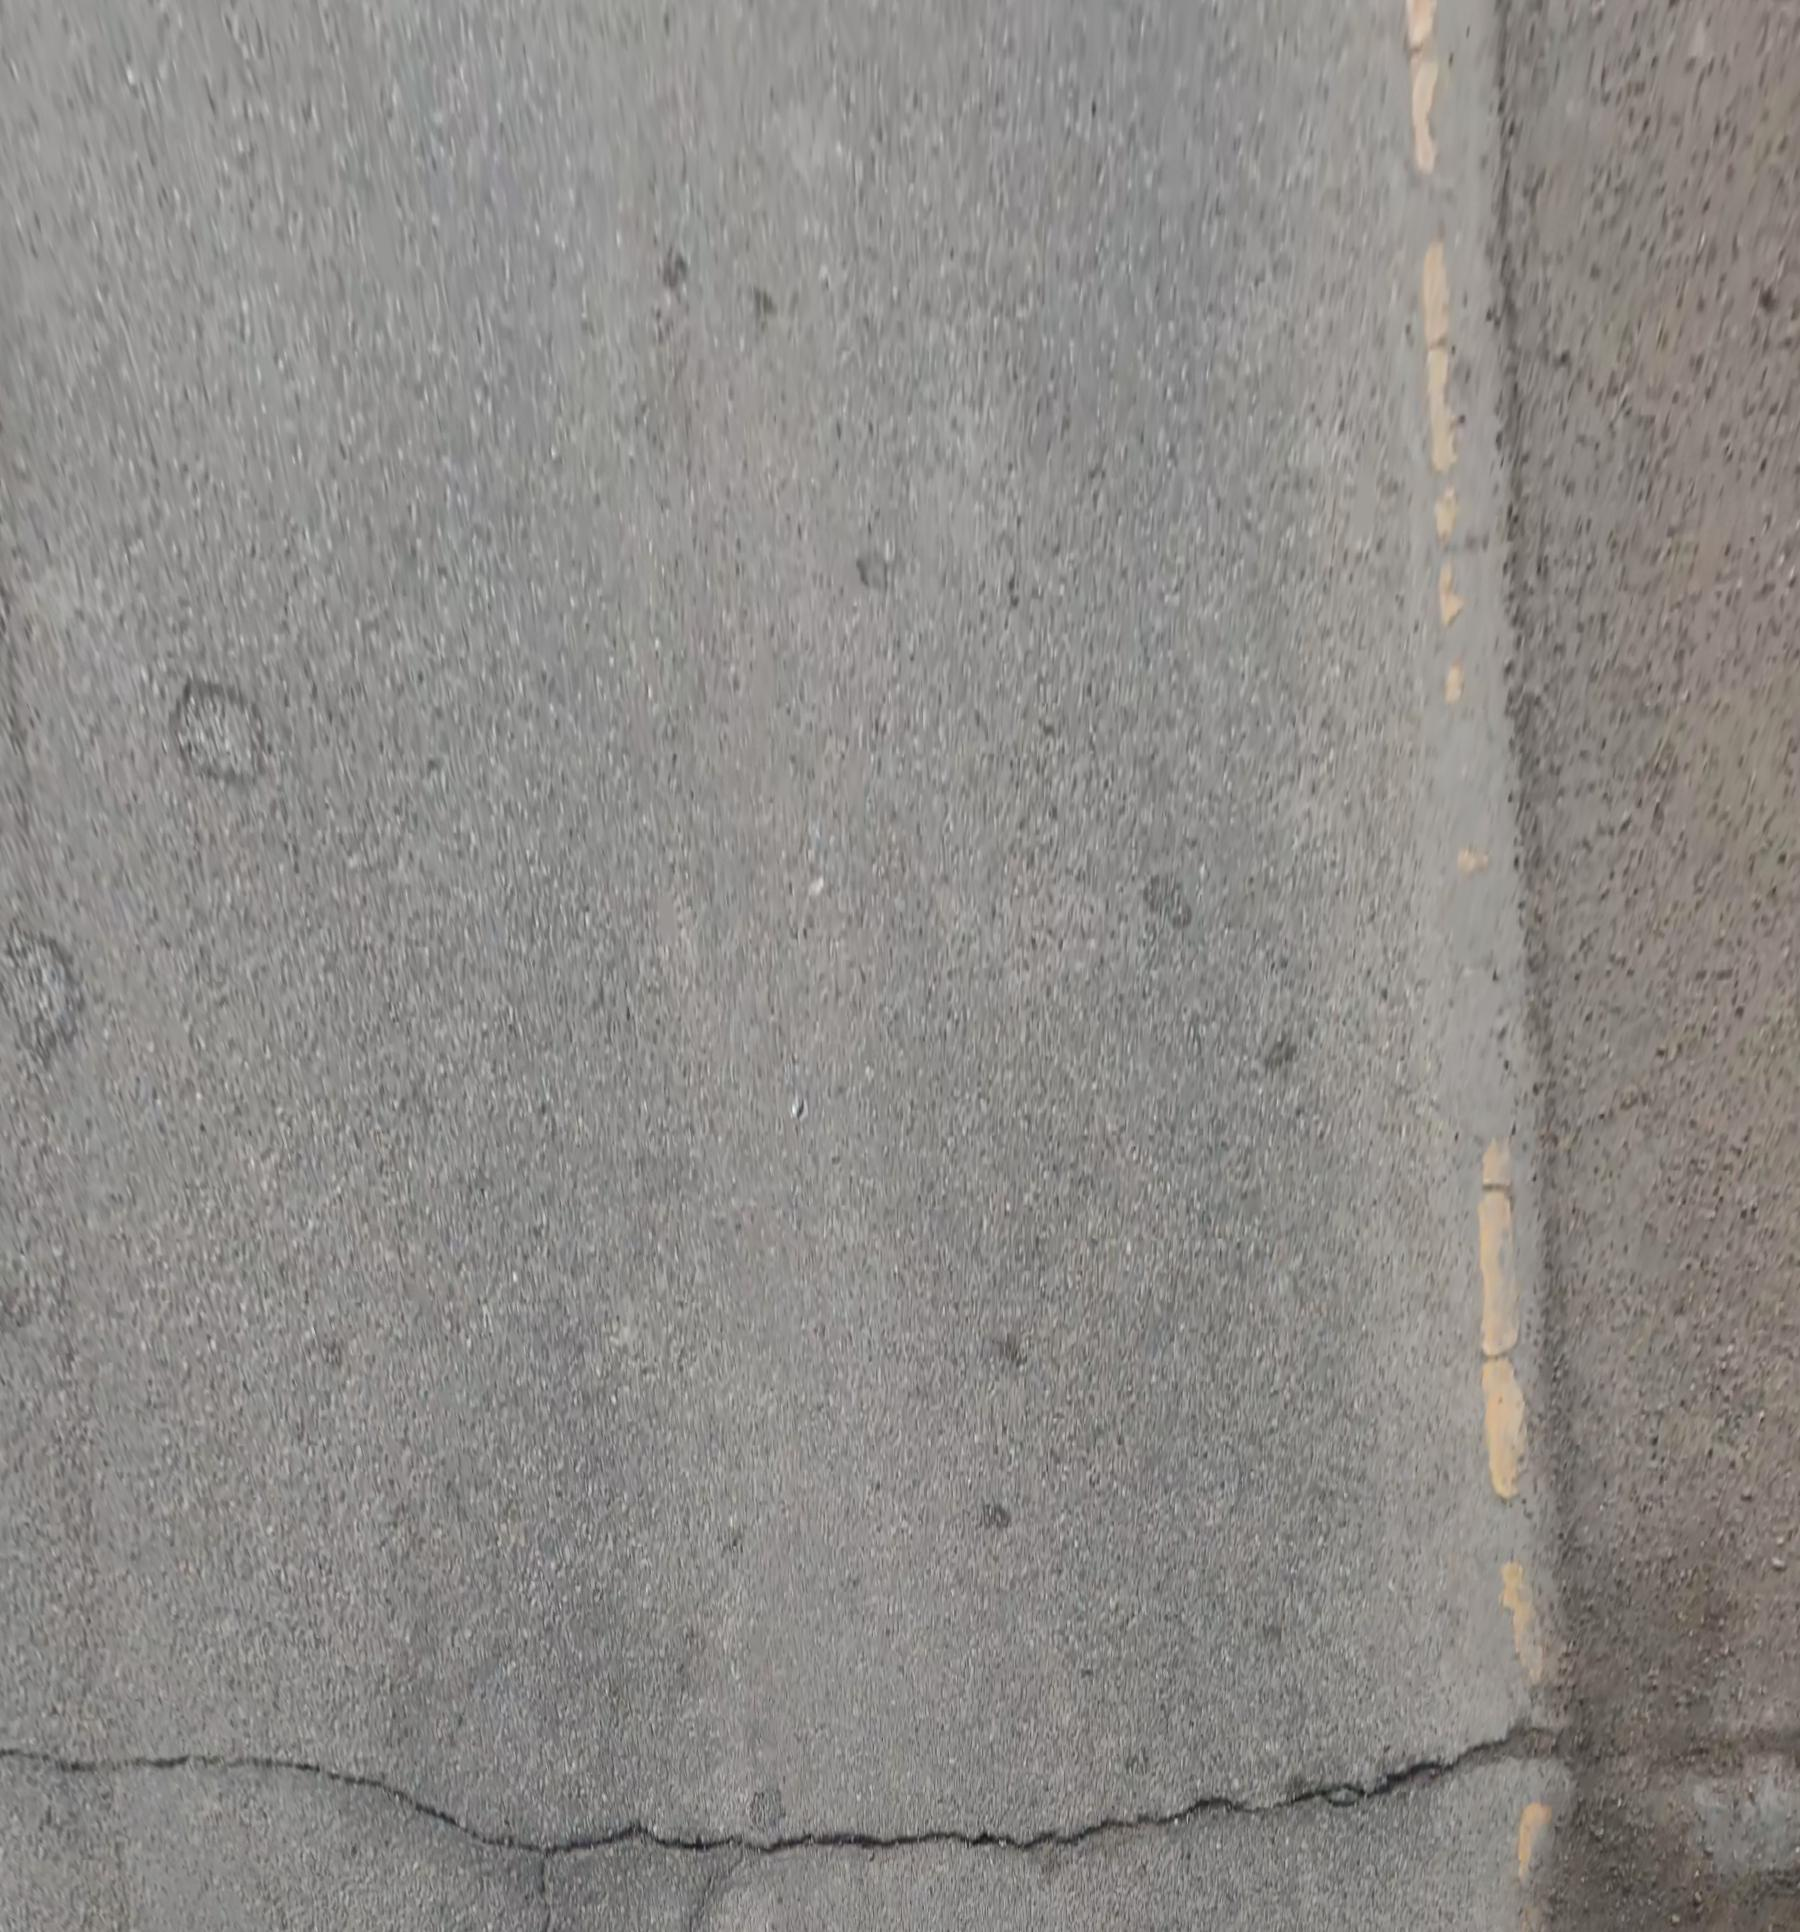pothole: (2, 927, 80, 1062), (169, 678, 262, 783)
